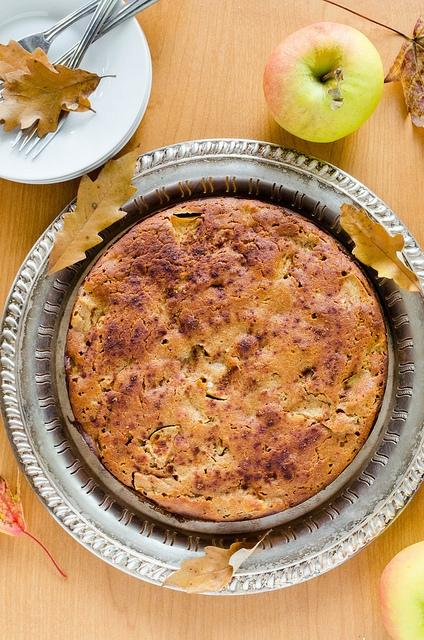apple: (263, 22, 384, 144), (378, 540, 424, 640)
